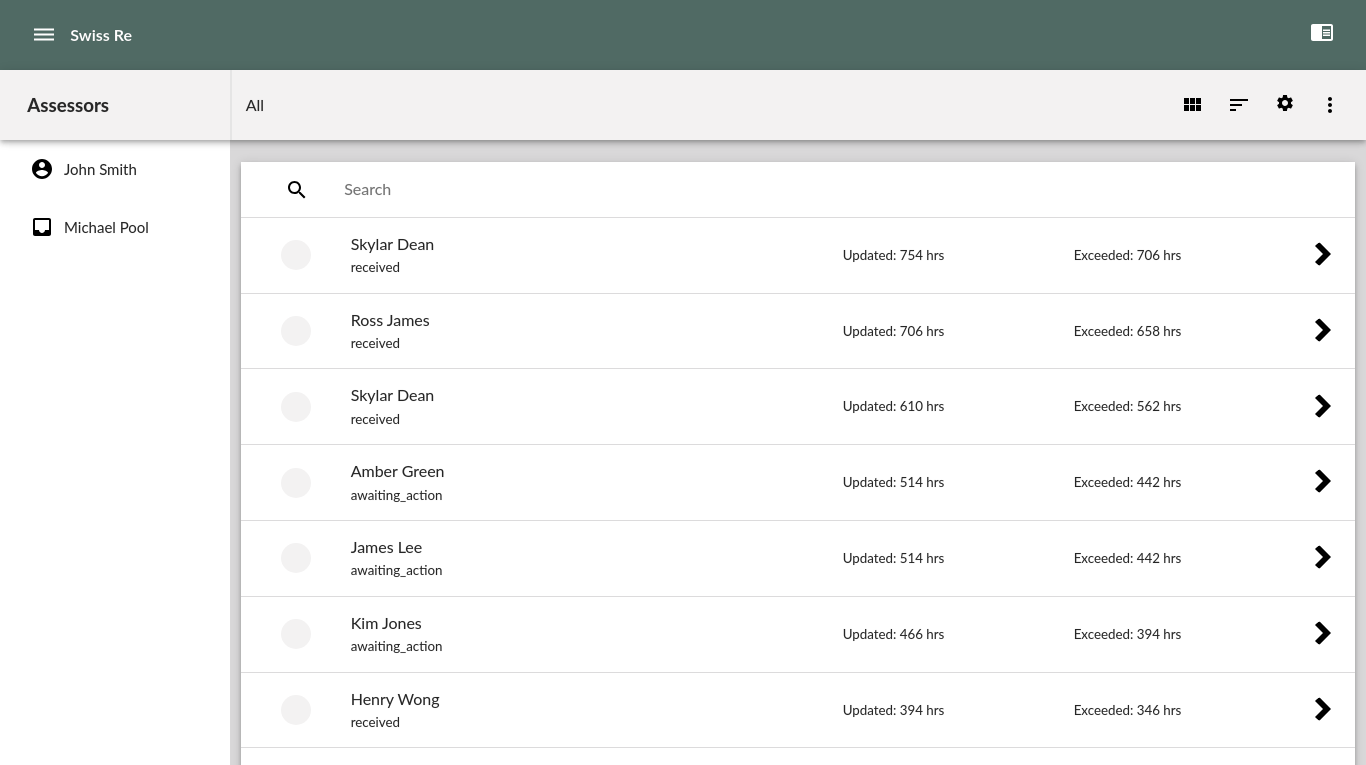
Test case: Selected item in Nav › cy.get() - query DOM elements
The width and height of the screenshot is (1366, 765).
What coordinates should you click on to do the following:
click the button with test id "Sm9obiBTbWl0aA=="
I would click on:
 (115, 169)
Its box is [0, 140, 230, 198].
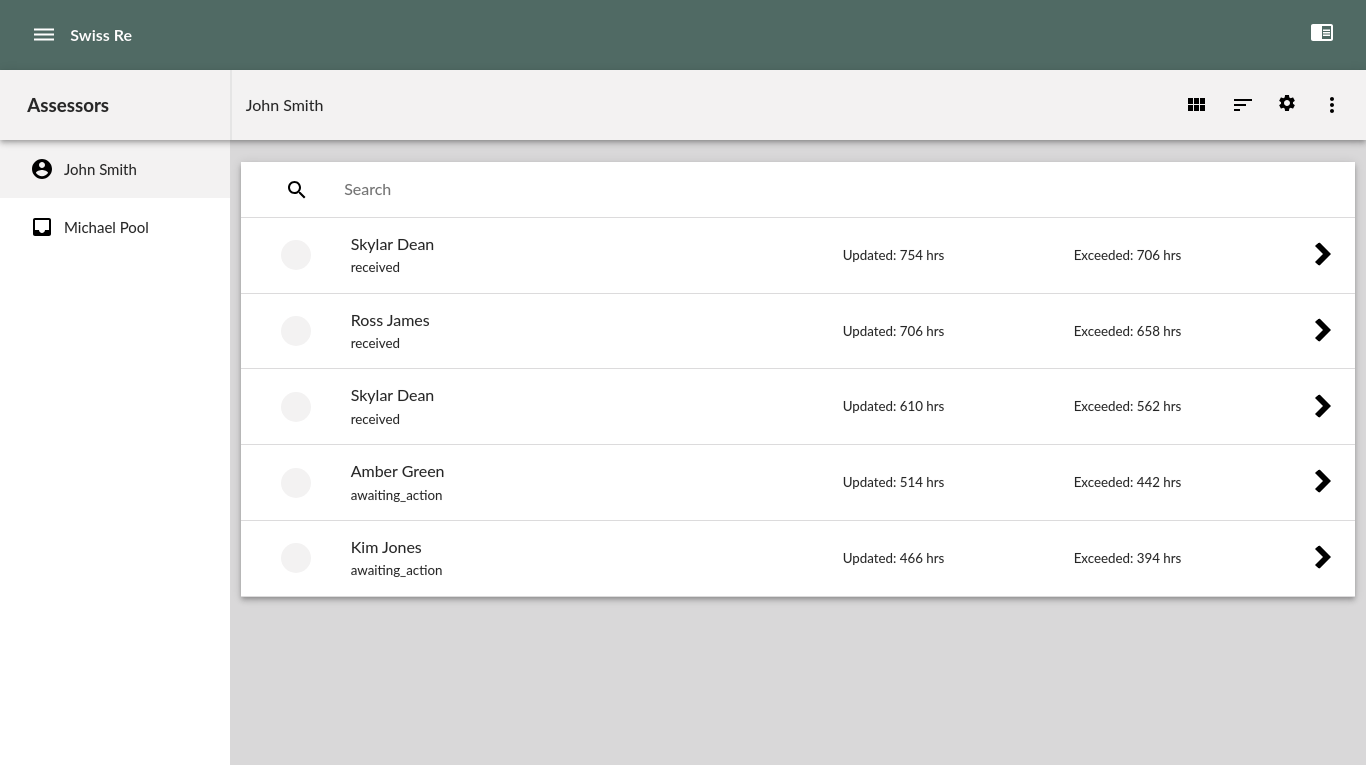
Expected: the number of elements with test id "dataContent" is 5, [241, 218, 1354, 294]
What coordinates should you click on to do the following:
click the button with test id "detailsButton2"
I would click on:
 (1323, 407)
Its box is [1311, 394, 1335, 420].
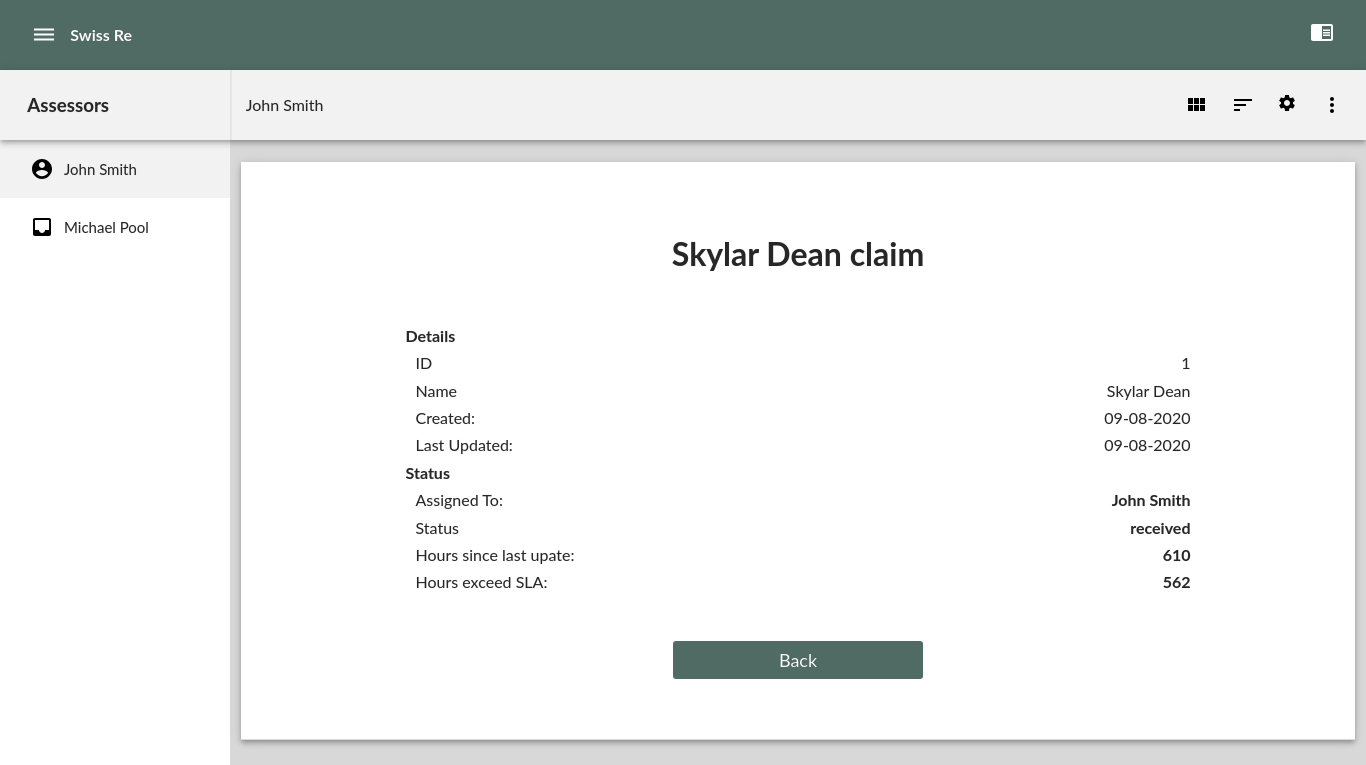
What coordinates should you click on to do the following:
click the button with test id "backButton"
I would click on:
 (798, 660)
Its box is [673, 641, 923, 679].
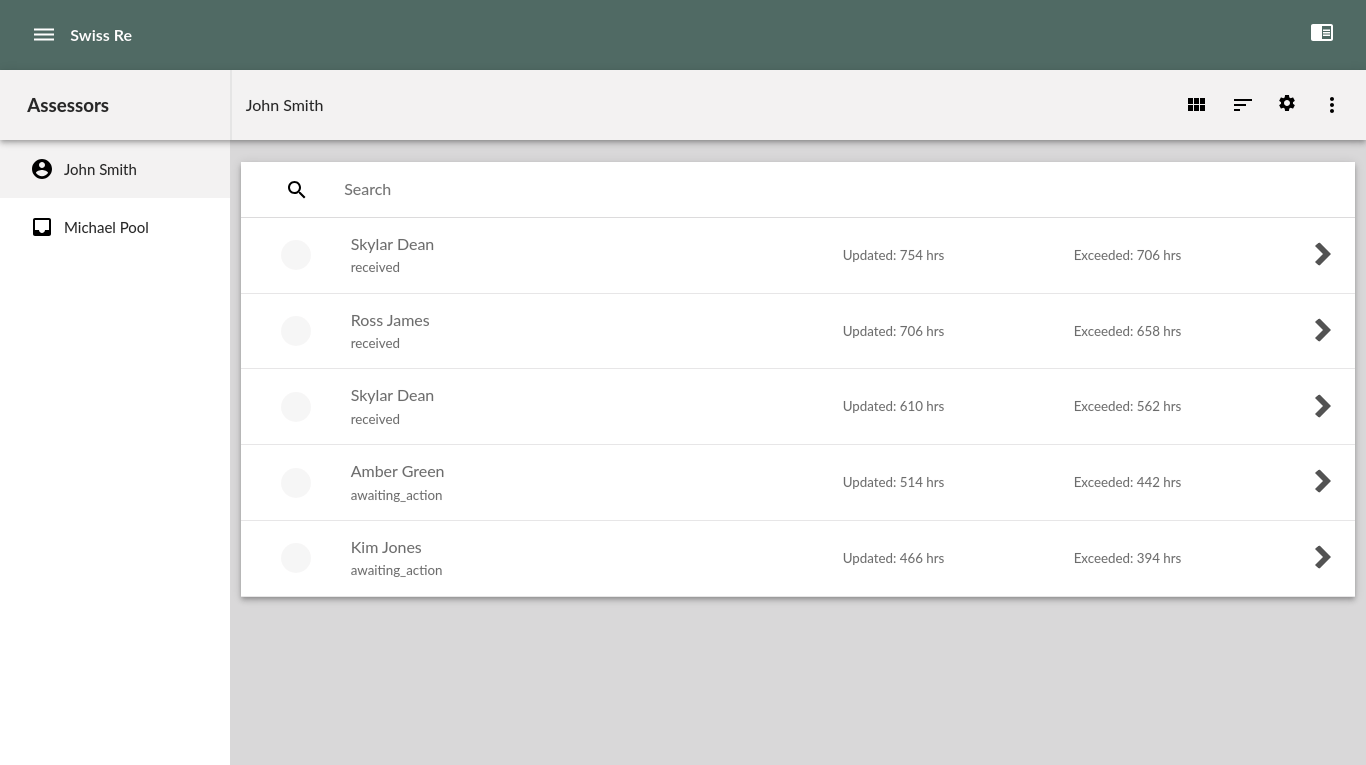
Expected: the number of elements with test id "dataContent" is 5, [241, 218, 1354, 294]
